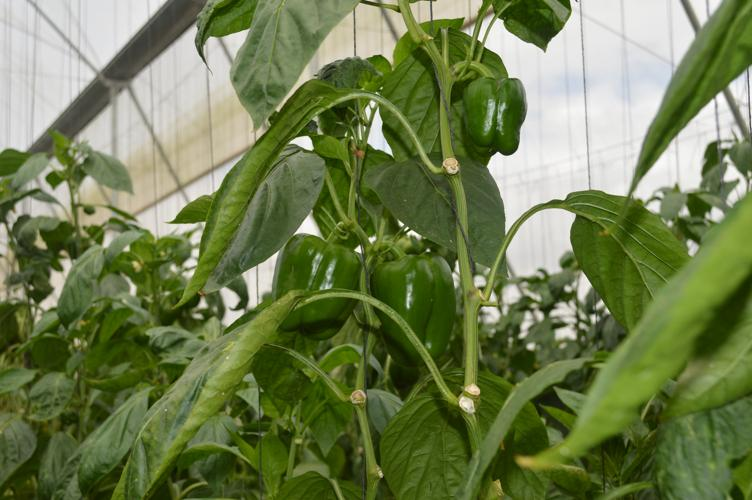BellPepper: (273, 235, 360, 338), (376, 254, 455, 360), (460, 73, 523, 155)
